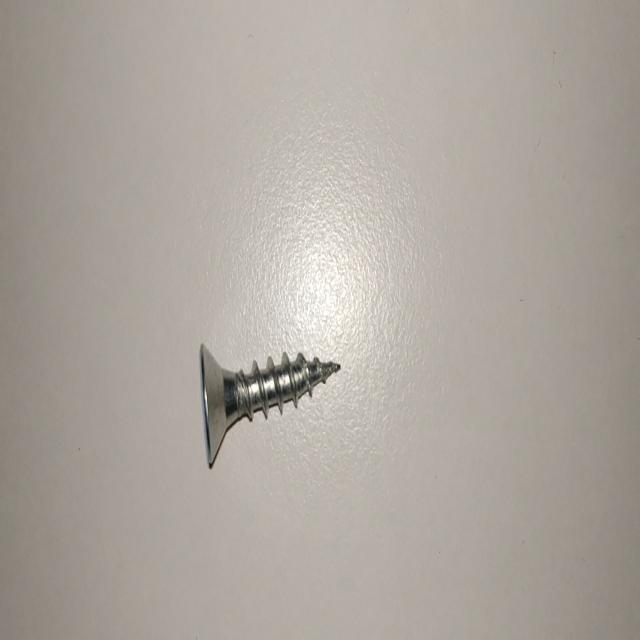Screw: (199, 344, 341, 467)
